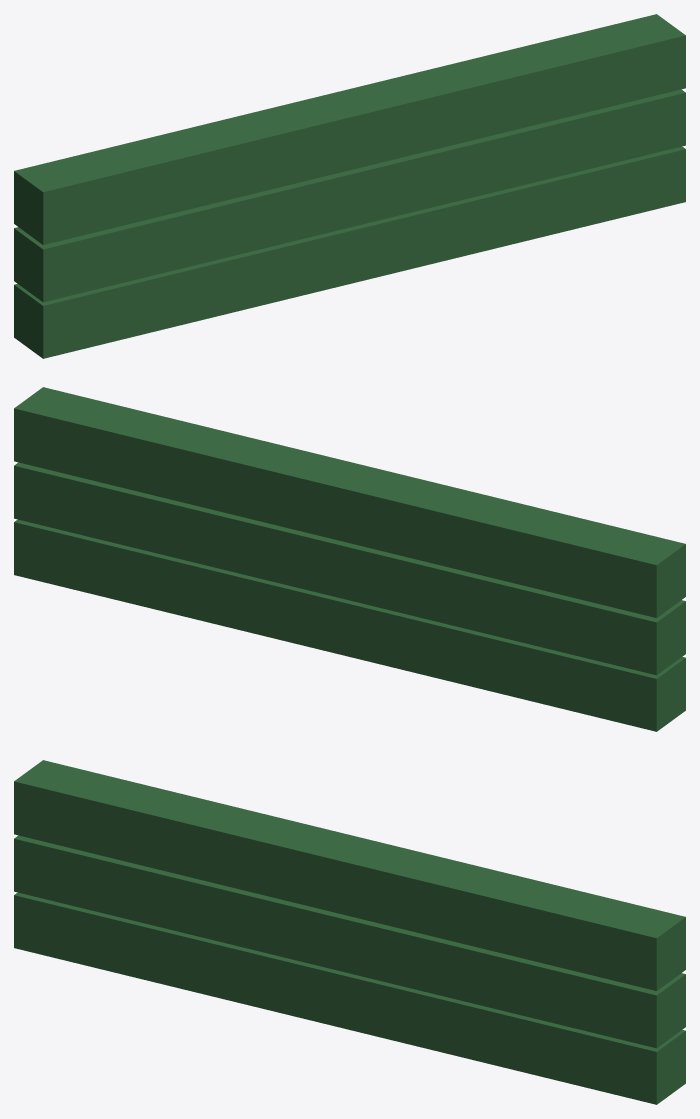
File: obstacle_test.glb
The picture shows the model from 3 angles, top to bottom: view 1: azimuth 30°, elevation 25°; view 2: azimuth 150°, elevation 25°; view 3: azimuth 330°, elevation 25°; orthographic projection.
Parts seen in each view (by area): view 1: Testing_bamboo; view 2: Testing_bamboo; view 3: Testing_bamboo.
Boxes of the visible parts, x1,y1,x2,y2 form: Testing_bamboo: (14, 14, 685, 358); Testing_bamboo: (14, 387, 685, 731); Testing_bamboo: (14, 760, 685, 1104).
Size of the model in its own units: 3.24 by 0.8017 by 0.2545.
